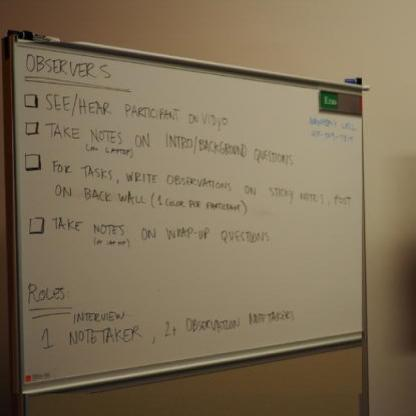Handwritten text: (39, 153, 362, 239), (35, 116, 299, 179), (39, 84, 241, 142), (47, 210, 281, 257), (178, 292, 304, 342), (65, 300, 145, 350), (19, 49, 124, 86), (20, 277, 76, 311)
Whiteboard: (14, 34, 367, 390)
